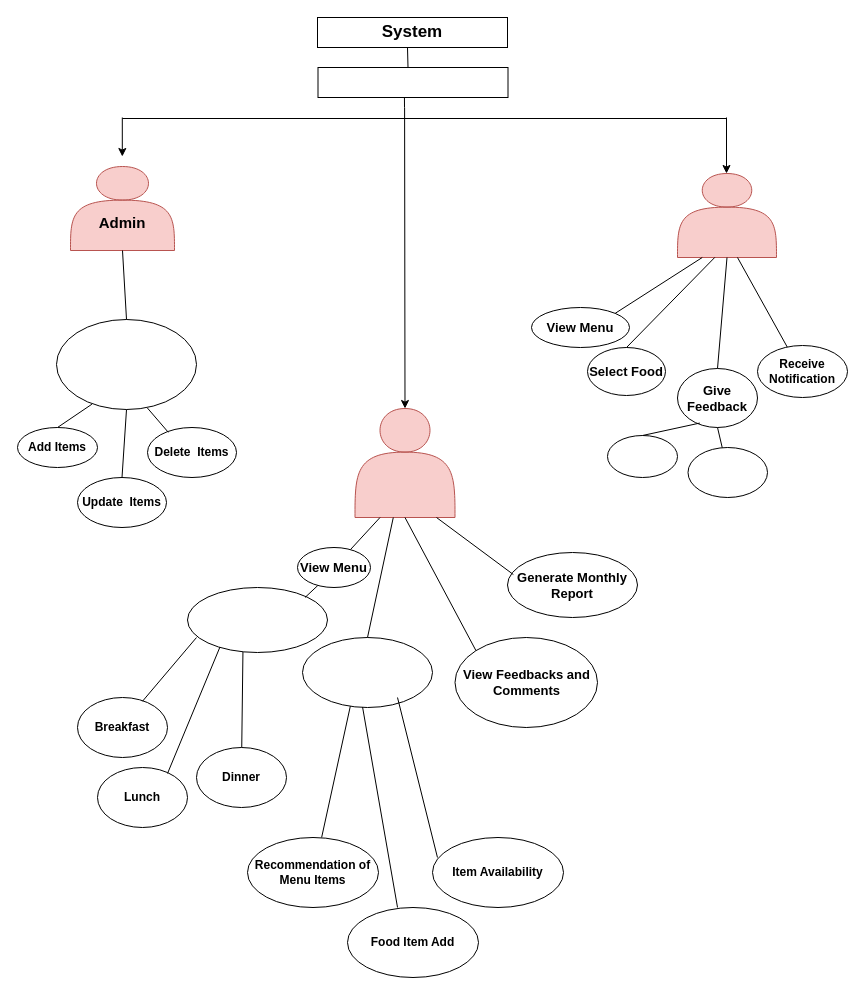
This 865x995 diagram has some shape labels left out. The shapes that lost their labels are listed below. From the top down, each one's centre as x and y in pixels, then its label:
the point at 412,82: Authentication
the point at 726,215: Employee
the point at 126,364: Manage Food Items
the point at 404,463: Chef
the point at 642,456: Rating
the point at 727,472: Comments
the point at 257,619: Suggest Food Menu
the point at 367,672: Send Notification
